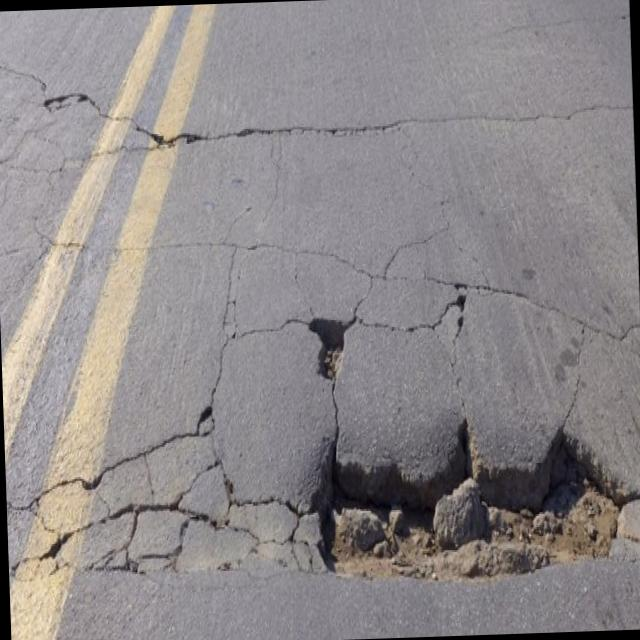Potholes: (277, 382, 640, 594), (307, 294, 364, 416)
